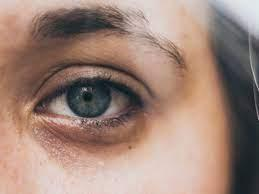Eyebags: (40, 111, 143, 147)
